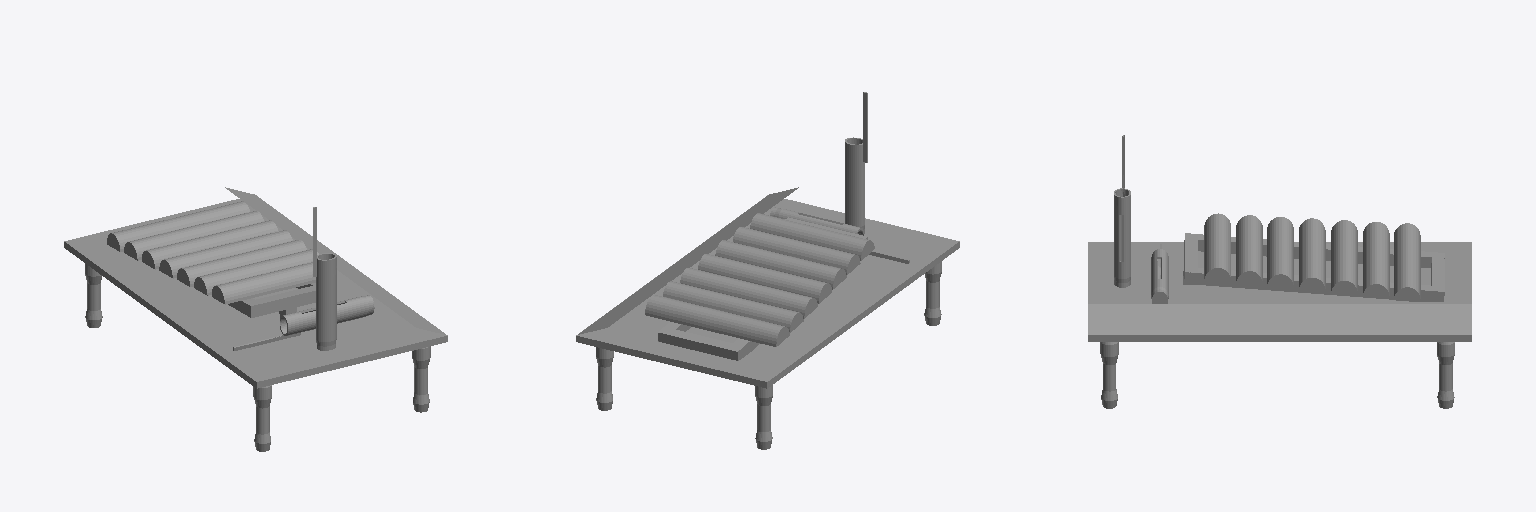
File: sip.obj
3 renders of one model, left to right at view 1: azimuth 30°, elevation 25°; view 2: azimuth 150°, elevation 25°; view 3: azimuth 270°, elevation 25°, orthographic.
Parts seen in each view (by area): view 1: Cylinder.002, Cube.000, Plane_Plane.003, Cylinder.037, Cylinder.000; view 2: Cube.000, Cylinder.002, Plane_Plane.003, Cylinder.037, Cylinder.000; view 3: Cube.000, Cylinder.002, Plane_Plane.003, Cylinder.037, Cylinder.000.
Part boxes in pixels (x1,y1,x2,y2): Cylinder.002: (64,195,447,451); Cube.000: (107,201,318,317); Plane_Plane.003: (225,187,445,334); Cylinder.037: (313,207,336,350); Cylinder.000: (233,295,374,350); Cube.000: (645,213,874,360); Cylinder.002: (576,195,959,449); Plane_Plane.003: (578,187,798,334); Cylinder.037: (845,92,867,233); Cylinder.000: (770,207,909,263); Cube.000: (1183,213,1444,301); Cylinder.002: (1088,242,1471,408); Plane_Plane.003: (1088,304,1471,334); Cylinder.037: (1114,135,1130,287); Cylinder.000: (1151,244,1168,303).
Bounding box in the file's own units: 2.27 × 2.52 × 3.96.